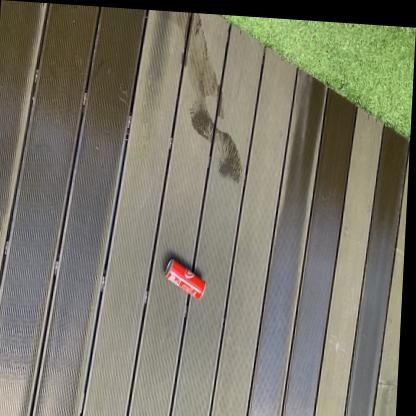trash: (165, 258, 205, 298)
